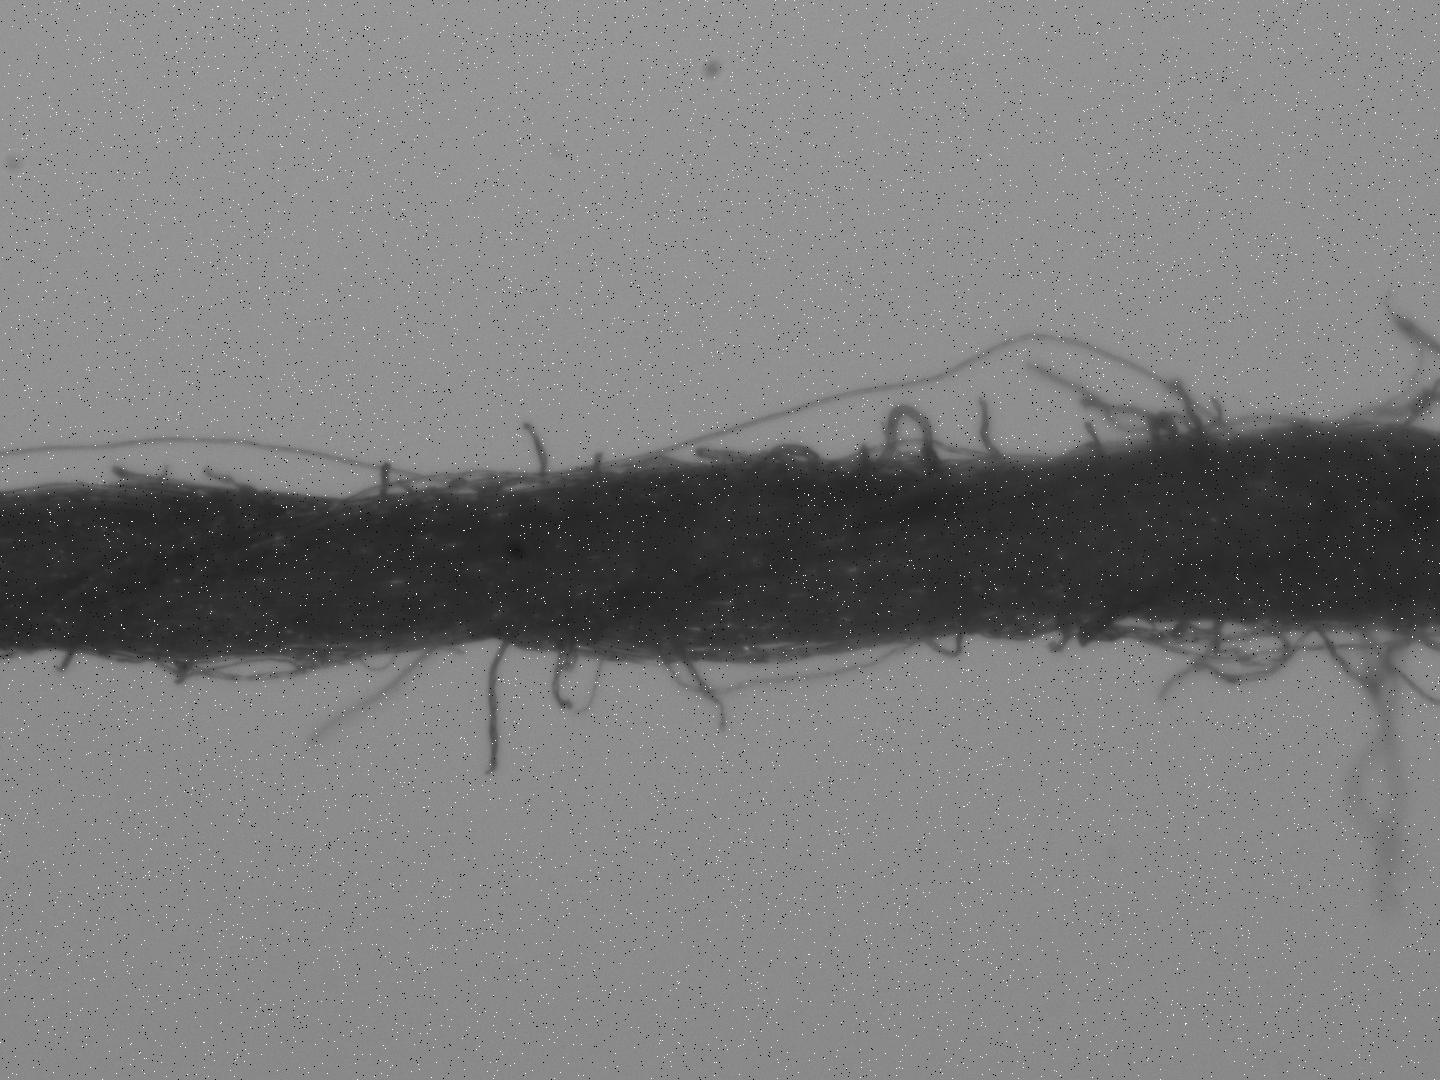loop_fiber: (662, 638, 909, 699), (346, 467, 578, 503), (1074, 619, 1307, 647), (168, 652, 331, 687), (874, 404, 945, 472), (1203, 411, 1321, 441), (747, 445, 830, 471), (913, 630, 966, 661)
protruding_fiber: (478, 635, 511, 775), (520, 420, 550, 489), (979, 397, 1007, 464), (56, 650, 76, 677)
